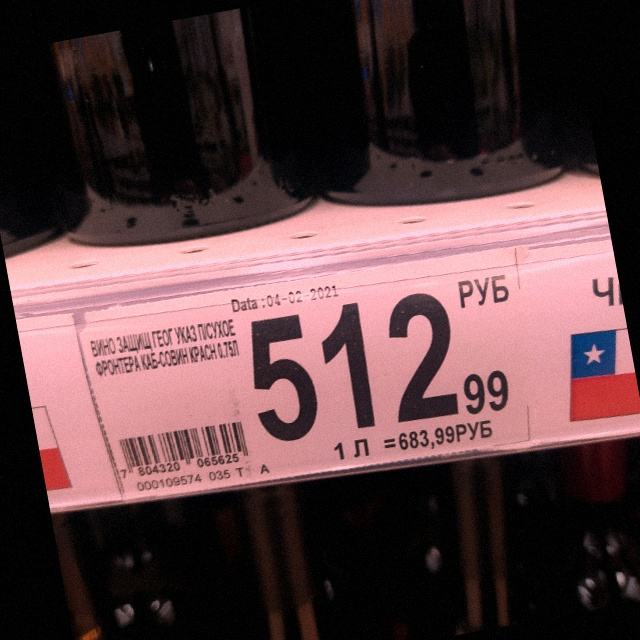barcode: (115, 418, 251, 481)
name: (88, 316, 243, 377)
price: (248, 291, 517, 444)
price_tag: (73, 246, 536, 499)
